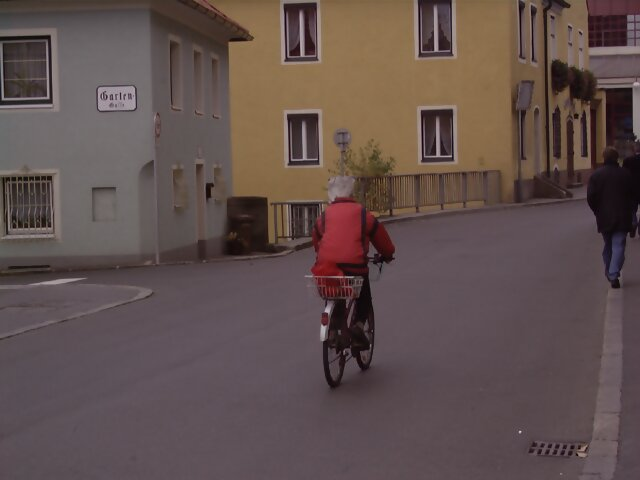person: (301, 170, 402, 371)
